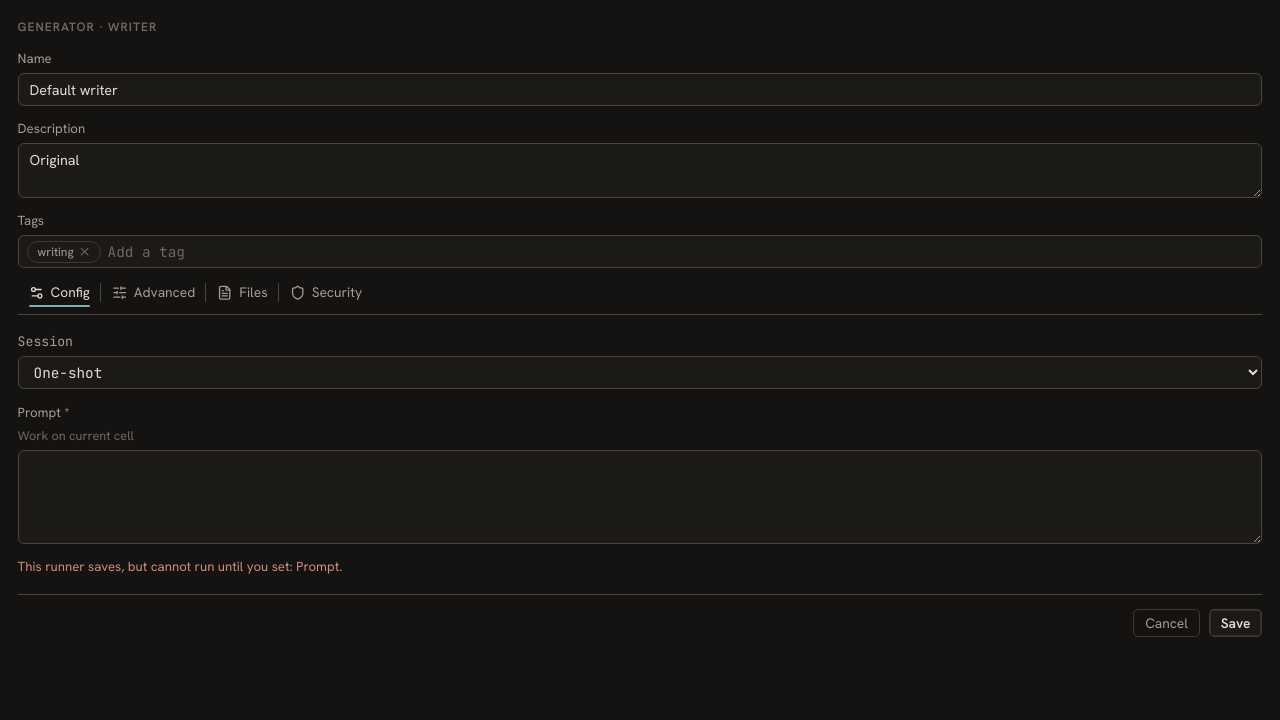
Scenario: Shared RunnerEditor › shows the prompt only while the generator gate opens it
This screenshot has width=1280, height=720.
Check: the text box labelled "Prompt" is shown, box [18,450,1262,544]
Check: the text "Prompt *" is shown, box [18,404,69,420]
Select "Interactive" in the dropdown labelled "Session" at (640, 373), box [18,356,1262,389]
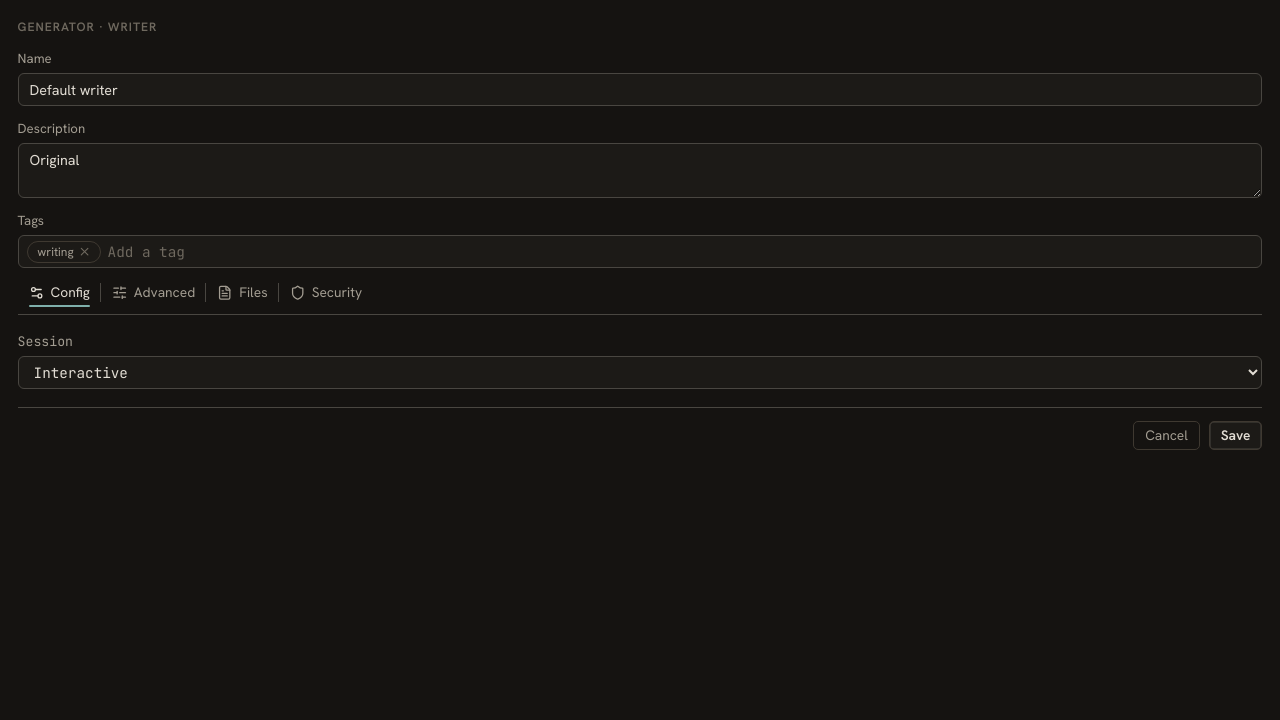
Check: the text labelled "Prompt" is gone
Check: the text "cannot run until you set" is gone
